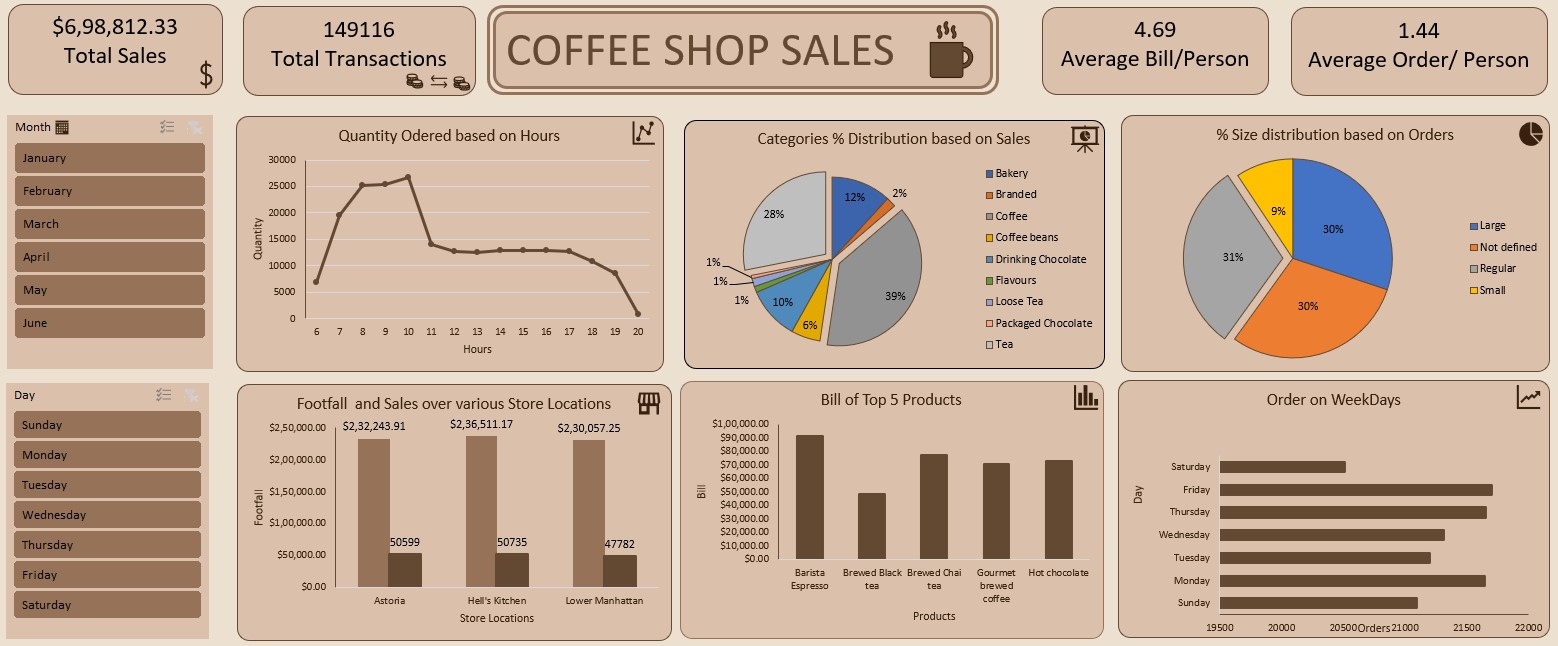

What the dashboard file says about the page in this screenshot:
{"tool":"powerbi","page":{"name":"Page 1","canvas":[1280,720],"ordinal":0},"visuals":[{"type":"lineChart","title":"Quantity ordered based on hours","fields":{"Y":["Sum(CoffeeSales.transaction_qty)"],"Category":["CoffeeSales.Hour"]},"box":[0,80,432,240],"z":0},{"type":"pieChart","title":"%Size distribution based on Orders","fields":{"Category":["CoffeeSales.product_category"],"Y":["Sum(CoffeeSales.Total_bill)"]},"box":[800,96,480,288],"z":1000},{"type":"pieChart","title":"Categroies % distribution based on Sales","fields":{"Category":["CoffeeSales.Size"],"Y":["Sum(CoffeeSales.transaction_id)"]},"box":[432,96,368,272],"z":2000},{"type":"clusteredColumnChart","title":"Footfall and Sales over various Store locations","fields":{"Category":["CoffeeSales.store_location"],"Y":["Sum(CoffeeSales.Total_bill)","CountNonNull(CoffeeSales.transaction_id)"]},"box":[0,320,400,400],"z":3000},{"type":"columnChart","title":"Bill of Top 5 Products","fields":{"Y":["Sum(CoffeeSales.Total_bill)"],"Category":["CoffeeSales.product_type"]},"box":[400,384,464,336],"z":4000},{"type":"clusteredBarChart","title":"Order on Weekdays","fields":{"Category":["CoffeeSales.Day Name"],"Y":["CountNonNull(CoffeeSales.transaction_id)"]},"box":[848,384,416,336],"z":5000},{"type":"slicer","fields":{"Values":["CoffeeSales.Month Name"]},"box":[432,32,832,64],"z":6000},{"type":"textbox","box":[32,16,400,48],"z":8000}]}

Visuals, with their boxes on the page's 1280x720 design canvas (x1, y1, x2, y2). These are canvas units, not pixel positions in the 1558x646 screenshot, which may show the page scaled, cropped or inside an application window:
"Quantity ordered based on hours" lineChart: box(0, 80, 432, 320)
"%Size distribution based on Orders" pieChart: box(800, 96, 1280, 384)
"Categroies % distribution based on Sales" pieChart: box(432, 96, 800, 368)
"Footfall and Sales over various Store locations" clusteredColumnChart: box(0, 320, 400, 720)
"Bill of Top 5 Products" columnChart: box(400, 384, 864, 720)
"Order on Weekdays" clusteredBarChart: box(848, 384, 1264, 720)
slicer - CoffeeSales.Month Name: box(432, 32, 1264, 96)
textbox: box(32, 16, 432, 64)
